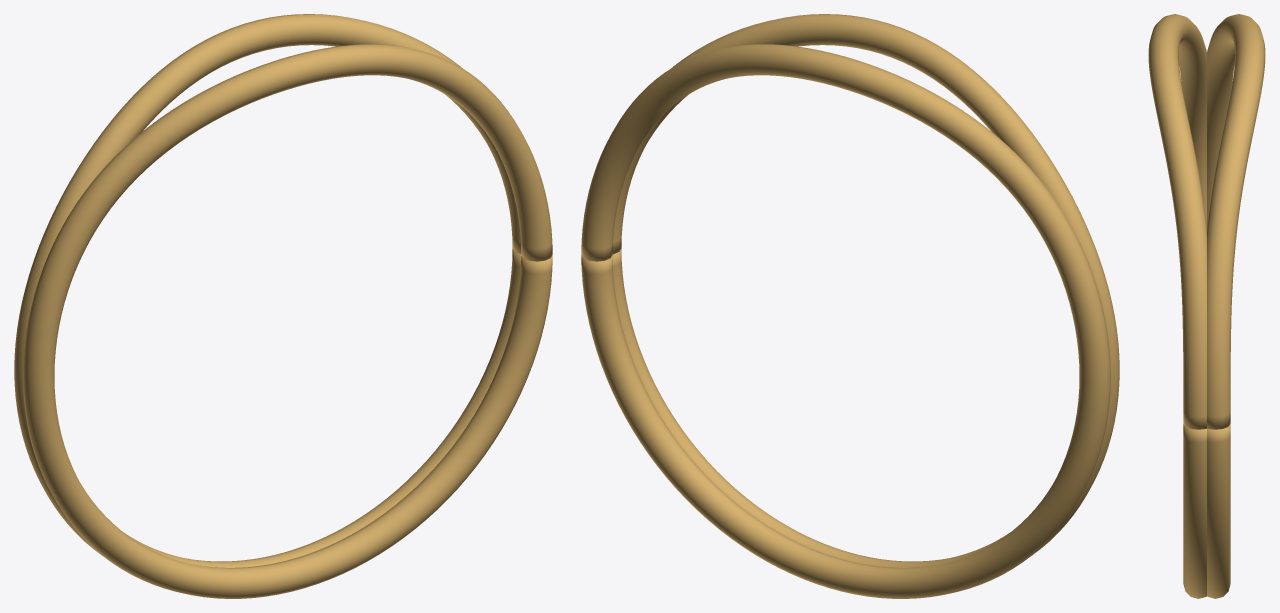
The model's file is bands-split-shank.glb.
The picture shows the model from 3 angles, left to right: view 1: azimuth 30°, elevation 25°; view 2: azimuth 150°, elevation 25°; view 3: azimuth 270°, elevation 25°; orthographic projection. The views are drawn at different scales.
Parts seen in each view (by area): view 1: Band strand, Band strand.001; view 2: Band strand.001, Band strand; view 3: Band strand, Band strand.001.
Part boxes in pixels (<box>): Band strand: <box>23,44,552,598</box>; Band strand.001: <box>14,14,521,567</box>; Band strand.001: <box>581,44,1110,598</box>; Band strand: <box>612,14,1119,567</box>; Band strand: <box>1148,14,1207,598</box>; Band strand.001: <box>1207,14,1265,598</box>.
Size of the model in its own units: 19.3 by 19.3 by 3.86.
